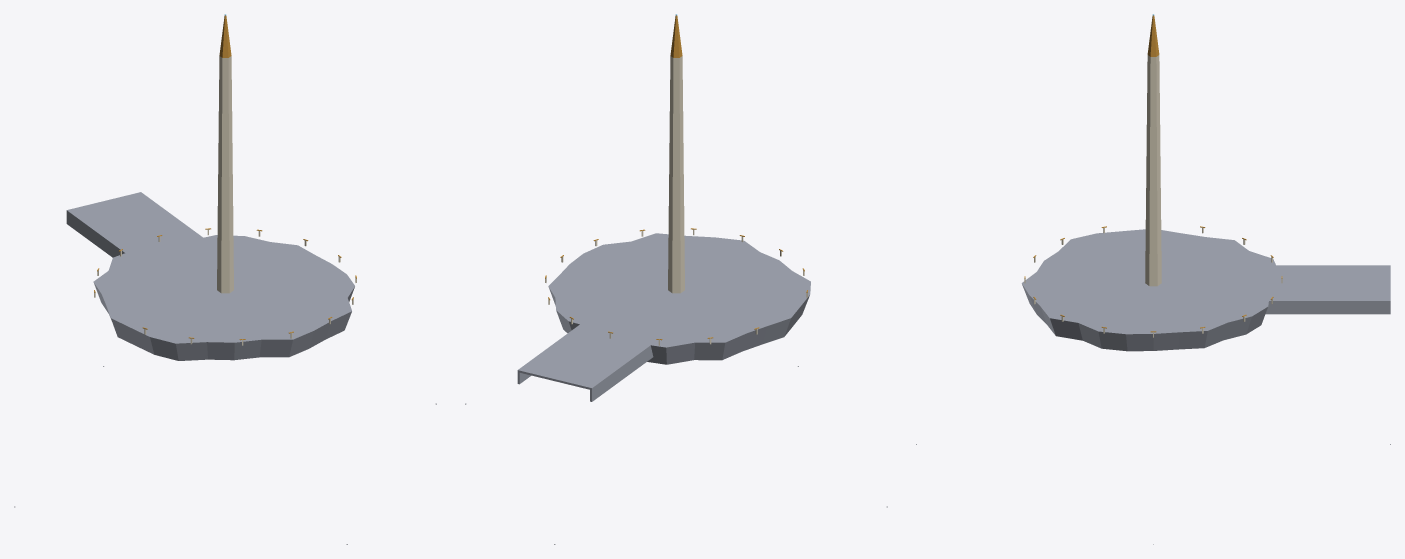
Rendered from chunk_es_side_overlook.fbx.
3 renders of one model, left to right at view 1: azimuth 30°, elevation 25°; view 2: azimuth 150°, elevation 25°; view 3: azimuth 270°, elevation 25°, orthographic. The views are drawn at different scales.
Visible parts, largest first — view 1: ES_SIDE_OVERLOOK; view 2: ES_SIDE_OVERLOOK; view 3: ES_SIDE_OVERLOOK.
Boxes of the visible parts, <box> form: ES_SIDE_OVERLOOK: <box>14,14,436,544</box>; ES_SIDE_OVERLOOK: <box>465,14,887,544</box>; ES_SIDE_OVERLOOK: <box>916,14,1390,544</box>.
Bounding box in the file's own units: 256 × 256 × 256.
